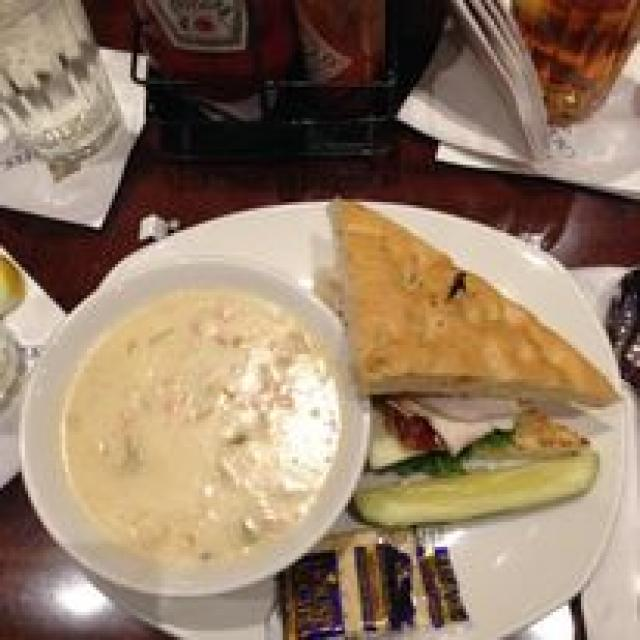Sandwich: (323, 180, 615, 488)
